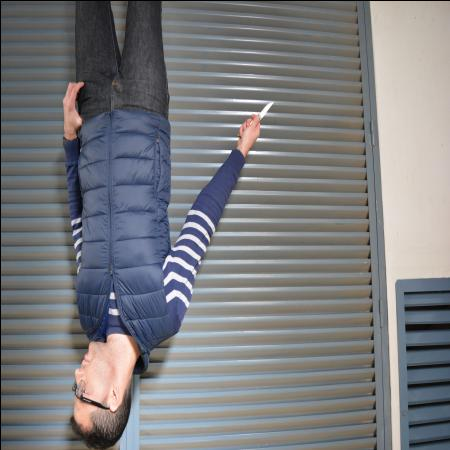long weapon: (234, 98, 276, 138)
